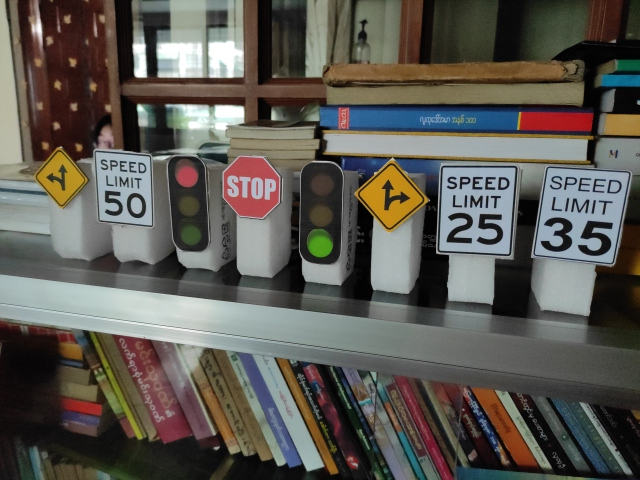Green Traffic Light: (298, 160, 343, 265)
Red Traffic Light: (166, 154, 210, 251)
Speed Limit 25: (437, 164, 520, 256)
Speed Limit 35: (532, 166, 632, 265)
Speed Limit 50: (93, 149, 155, 227)
Stop Sign: (221, 154, 283, 219)
Straight Or Left Sign: (33, 149, 87, 207)
Straight Or Right Sign: (357, 162, 427, 231)
